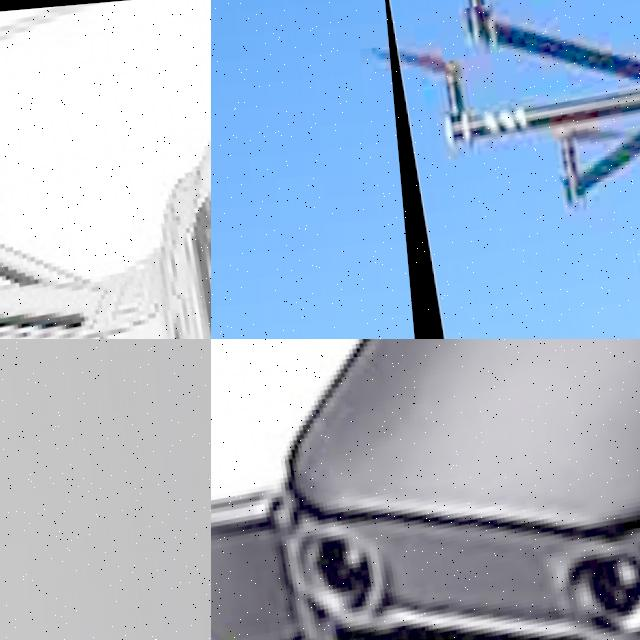0: (379, 0, 640, 339)
drone: (211, 339, 640, 640), (0, 0, 211, 339)
